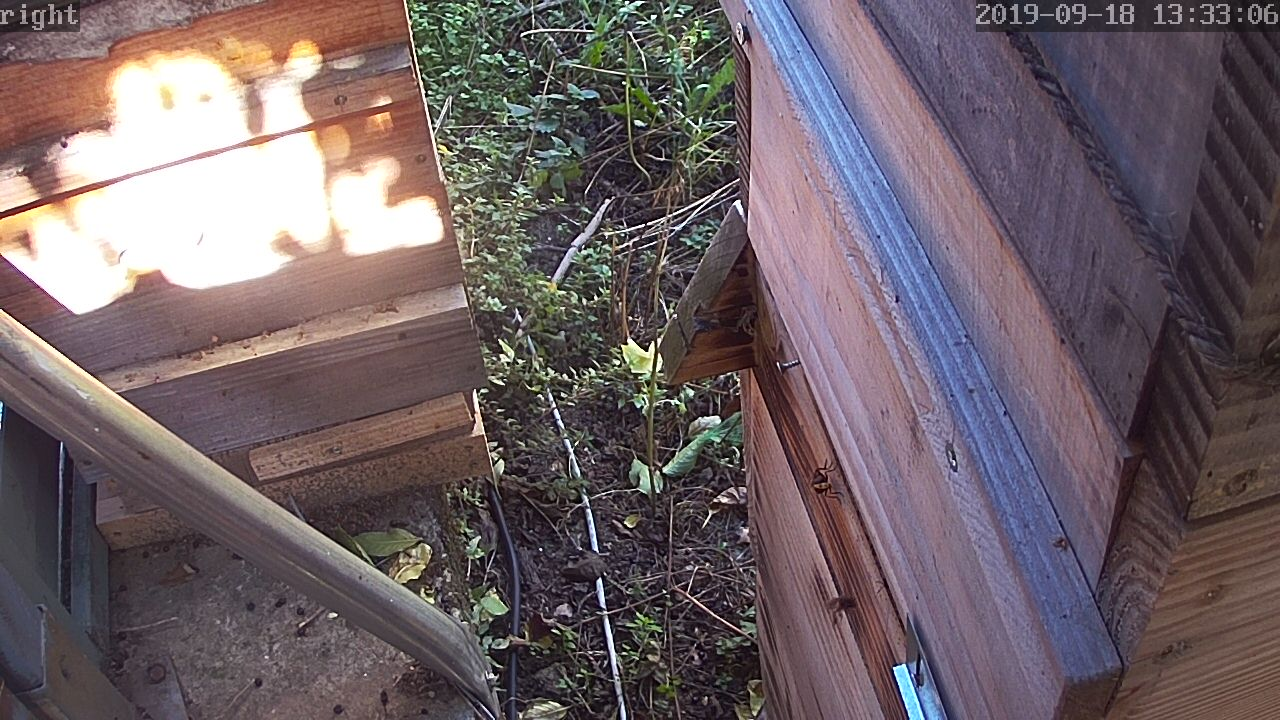bee: (826, 591, 860, 622)
hornet: (804, 460, 840, 501)
